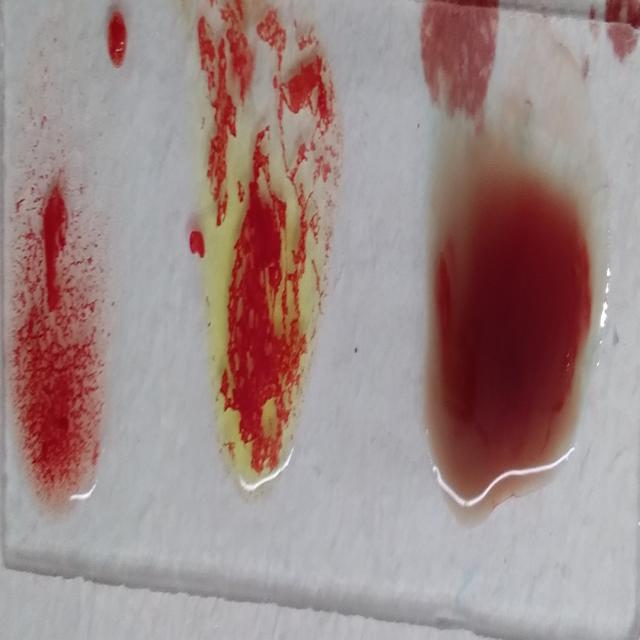B: (192, 6, 339, 494)
D: (3, 70, 117, 516)
